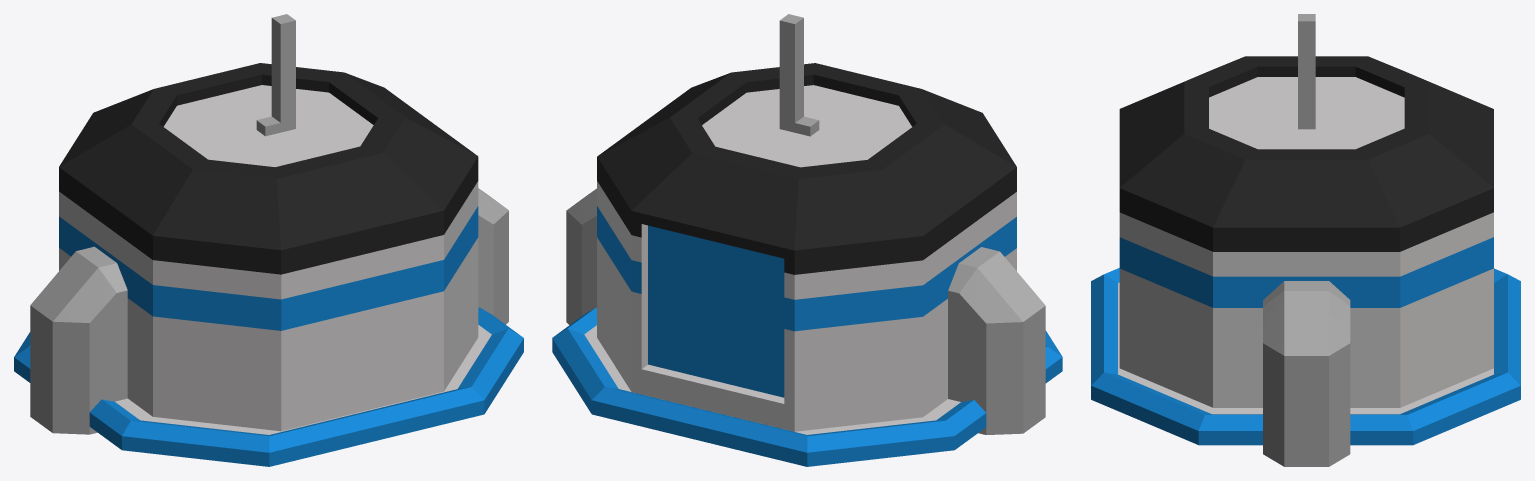
File: EPump.fbx
3 renders of one model, left to right at view 1: azimuth 30°, elevation 25°; view 2: azimuth 150°, elevation 25°; view 3: azimuth 270°, elevation 25°, orthographic.
Visible parts, largest first — view 1: Core, Base, PipeL1, PipeL2, Cellular2; view 2: Core, Base, PipeL1, PipeL2, Cellular2; view 3: Core, Base, PipeL2, Cellular2.
Boxes of the visible parts, x1=… form: Core: x1=59, y1=63, x2=478, y2=431; Base: x1=14, y1=307, x2=523, y2=466; PipeL1: x1=30, y1=246, x2=127, y2=434; PipeL2: x1=478, y1=188, x2=508, y2=324; Cellular2: x1=271, y1=14, x2=295, y2=132; Core: x1=597, y1=63, x2=1016, y2=431; Base: x1=552, y1=308, x2=1062, y2=466; PipeL1: x1=948, y1=247, x2=1045, y2=434; PipeL2: x1=566, y1=188, x2=596, y2=324; Cellular2: x1=779, y1=14, x2=803, y2=132; Core: x1=1119, y1=56, x2=1493, y2=407; Base: x1=1091, y1=268, x2=1520, y2=445; PipeL2: x1=1263, y1=281, x2=1350, y2=466; Cellular2: x1=1298, y1=14, x2=1315, y2=129.
Size of the model in its own units: 6 by 4.36 by 4.92.
